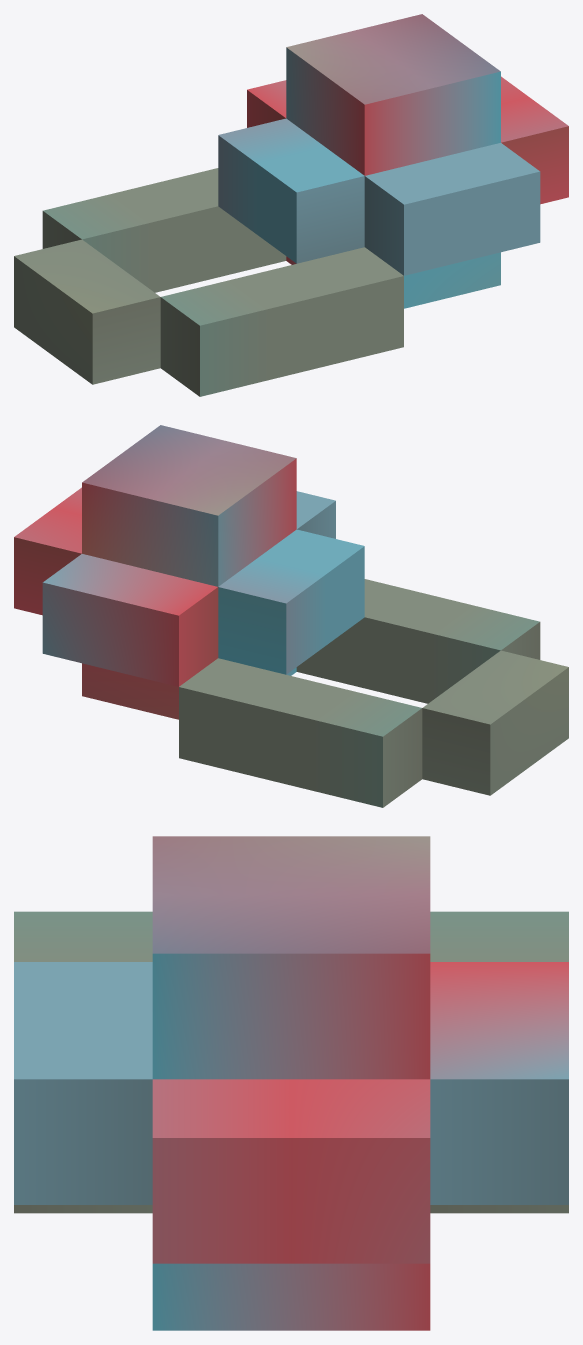
File: BabyRattle_B_04.obj
3 renders of one model, top to bottom at view 1: azimuth 30°, elevation 25°; view 2: azimuth 150°, elevation 25°; view 3: azimuth 270°, elevation 25°, orthographic. The views are drawn at different scales.
Parts seen in each view (by area): view 1: BabyRattle_B_04; view 2: BabyRattle_B_04; view 3: BabyRattle_B_04.
Boxes of the visible parts, <box> form: BabyRattle_B_04: <box>14,14,568,396</box>; BabyRattle_B_04: <box>14,425,568,807</box>; BabyRattle_B_04: <box>14,836,568,1330</box>.
Bounding box in the file's own units: 0.35 × 0.15 × 0.2.
